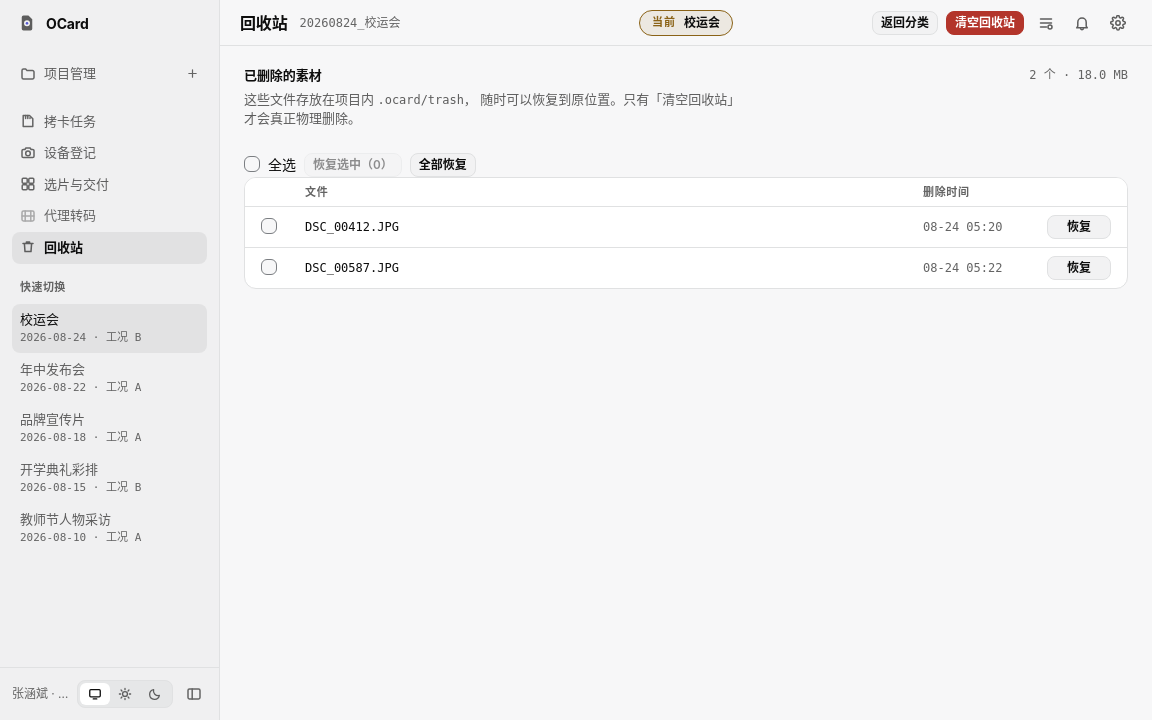
Test: 回收站 › #1 清空后重新拉取列表：失败项会保留在回收站里
Click the button with test id "trash-empty".
click(985, 22)  # box [946,10,1024,34]
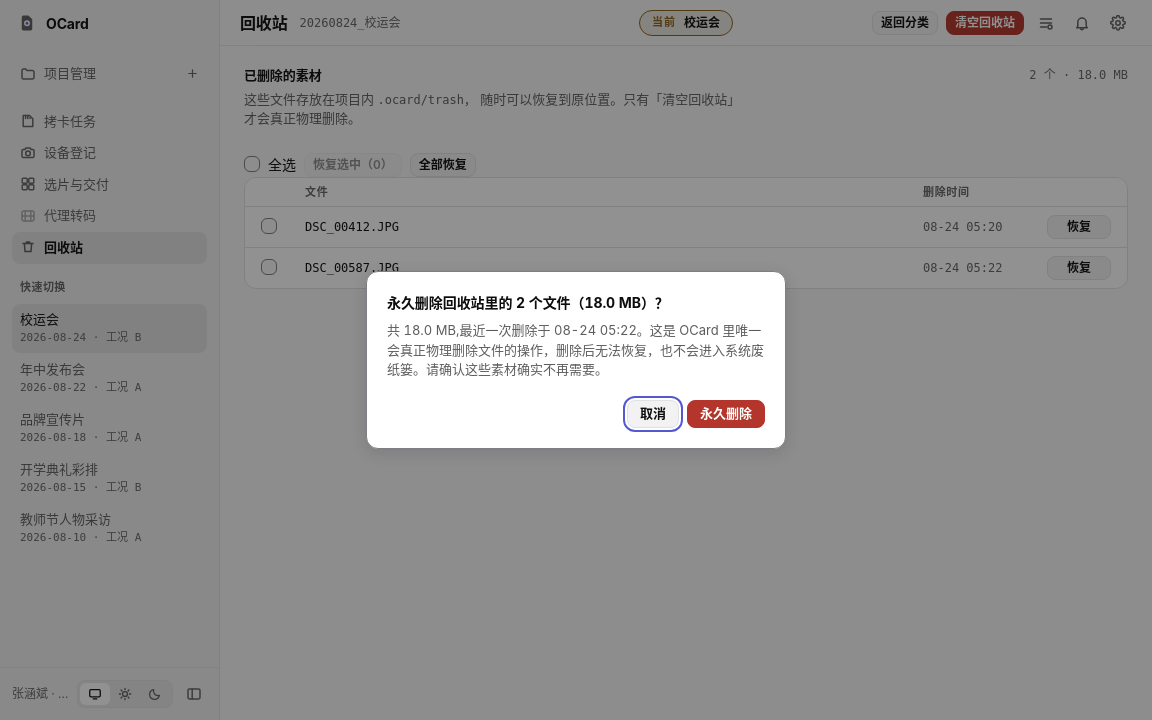
Click the button "永久删除".
click(726, 414)  # box [687,400,765,428]
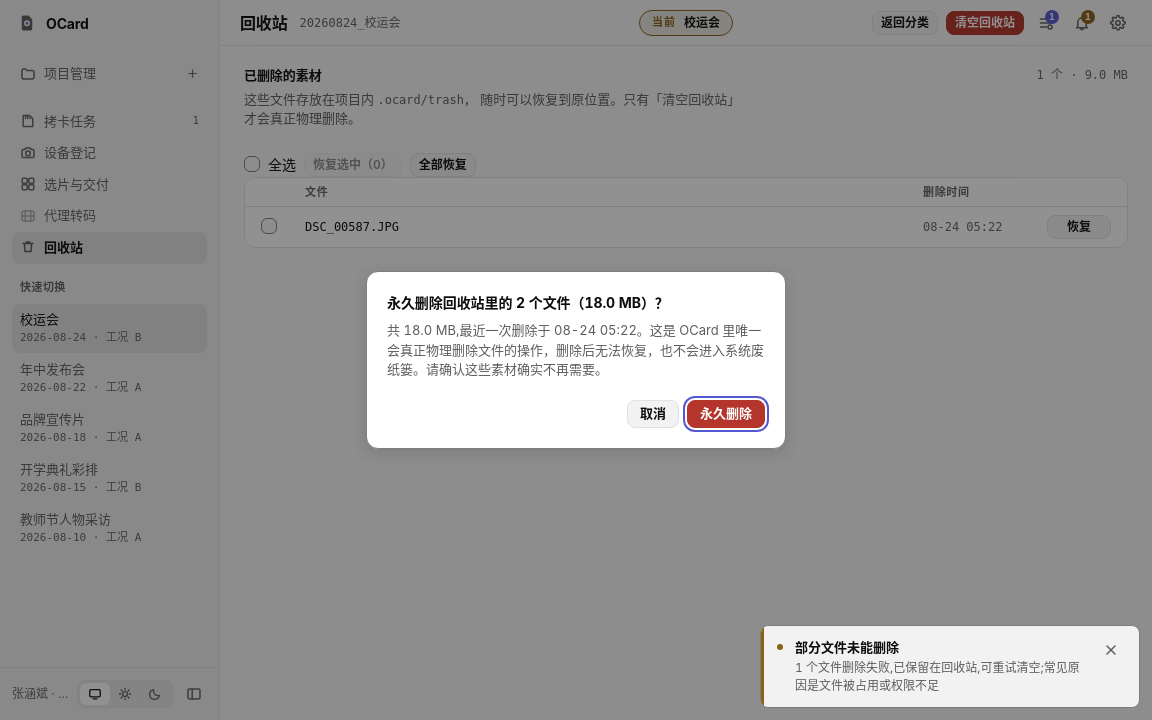
Now the number of options with test id "trash-row" is 1, box [245,207,1127,247]
